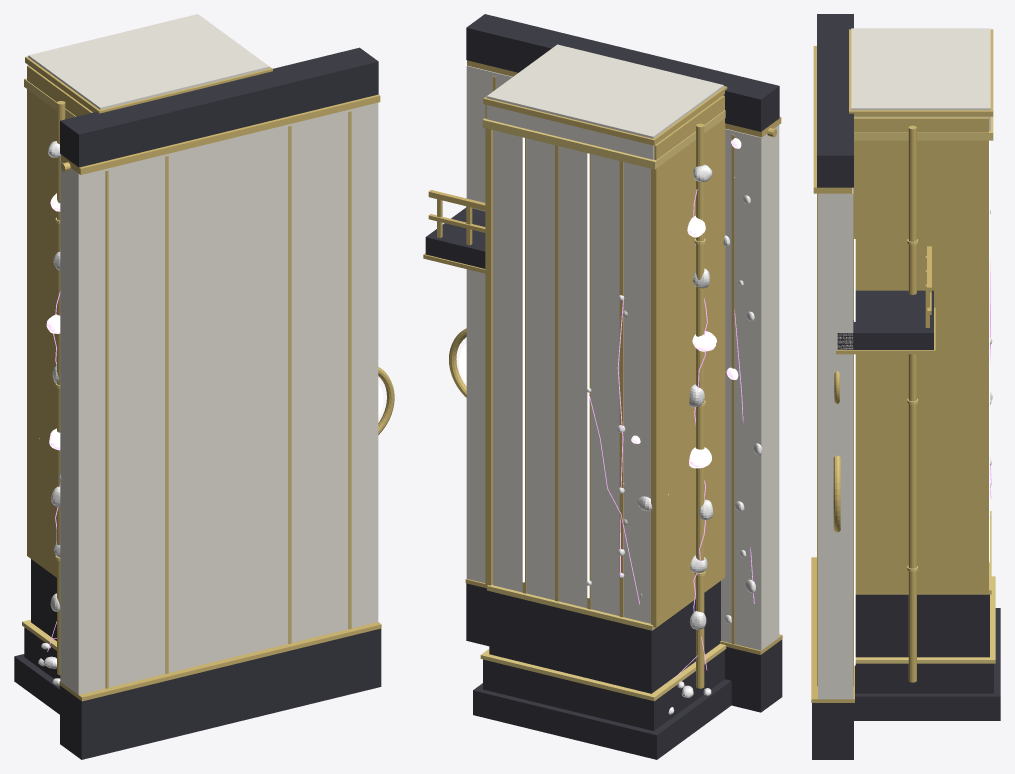
3 views of the same model, side by side, from view 1: azimuth 30°, elevation 25°; view 2: azimuth 150°, elevation 25°; view 3: azimuth 270°, elevation 25° (orthographic). The views are drawn at different scales.
Parts seen in each view (by area): view 1: HERO_wall_field, HERO_wall_base, HERO_wall_cap, HERO_pylon_corner_L, HERO_pylon_cap, HERO_wall_cornice, HERO_wall_baseg, HERO_wall_joint, HERO_wall_joint.001, HERO_wall_joint.002, HERO_wall_joint.003, HERO_pylon_conduit_L (+4 smaller); view 2: HERO_wall_field, HERO_pylon_corner_L, HERO_pylon_cap, HERO_pylon_lower, HERO_pylon_col_5, HERO_pylon_col_3, HERO_pylon_col_4, HERO_pylon_col_2, HERO_pylon_col_1, HERO_wall_cap, HERO_pylon_plinth, HERO_pylon_base (+16 smaller); view 3: HERO_pylon_corner_R, HERO_wall_field, HERO_pylon_cap, HERO_pylon_lower, HERO_wall_cap, ENV_balcony_slab, HERO_pylon_plinth, HERO_pylon_conduit_R, HERO_pylon_base, HERO_wall_base, HERO_pylon_cap_gold, HERO_pylon_base_trim (+9 smaller).
Part boxes in pixels (x1,y1,x2,y2): HERO_wall_field: [60, 102, 378, 694]; HERO_wall_base: [60, 628, 381, 759]; HERO_wall_cap: [60, 47, 378, 167]; HERO_pylon_corner_L: [27, 65, 92, 577]; HERO_pylon_cap: [28, 14, 269, 109]; HERO_wall_cornice: [61, 94, 380, 174]; HERO_wall_baseg: [59, 622, 381, 701]; HERO_wall_joint: [105, 170, 108, 688]; HERO_wall_joint.001: [165, 155, 168, 673]; HERO_wall_joint.002: [288, 125, 291, 643]; HERO_wall_joint.003: [348, 111, 351, 629]; HERO_pylon_conduit_L: [57, 101, 65, 675]; HERO_wall_field: [466, 65, 779, 650]; HERO_pylon_corner_L: [651, 95, 725, 627]; HERO_pylon_cap: [486, 44, 723, 159]; HERO_pylon_lower: [489, 581, 720, 693]; HERO_pylon_col_5: [493, 130, 522, 592]; HERO_pylon_col_3: [558, 146, 587, 607]; HERO_pylon_col_4: [526, 138, 554, 600]; HERO_pylon_col_2: [591, 154, 619, 615]; HERO_pylon_col_1: [623, 162, 650, 623]; HERO_wall_cap: [466, 14, 779, 131]; HERO_pylon_plinth: [473, 679, 731, 759]; HERO_pylon_base: [483, 650, 724, 730]; HERO_pylon_corner_R: [854, 117, 988, 593]; HERO_wall_field: [818, 187, 853, 699]; HERO_pylon_cap: [851, 28, 990, 130]; HERO_pylon_lower: [855, 594, 989, 657]; HERO_wall_cap: [817, 14, 853, 187]; ENV_balcony_slab: [837, 290, 933, 349]; HERO_pylon_plinth: [854, 608, 1000, 720]; HERO_pylon_conduit_R: [908, 125, 916, 682]; HERO_pylon_base: [855, 663, 993, 693]; HERO_wall_base: [812, 703, 853, 759]; HERO_pylon_cap_gold: [849, 29, 993, 116]; HERO_pylon_base_trim: [855, 576, 995, 663].
Size of what is drawn, in the model's own units: 4.42 by 8.01 by 2.26.
